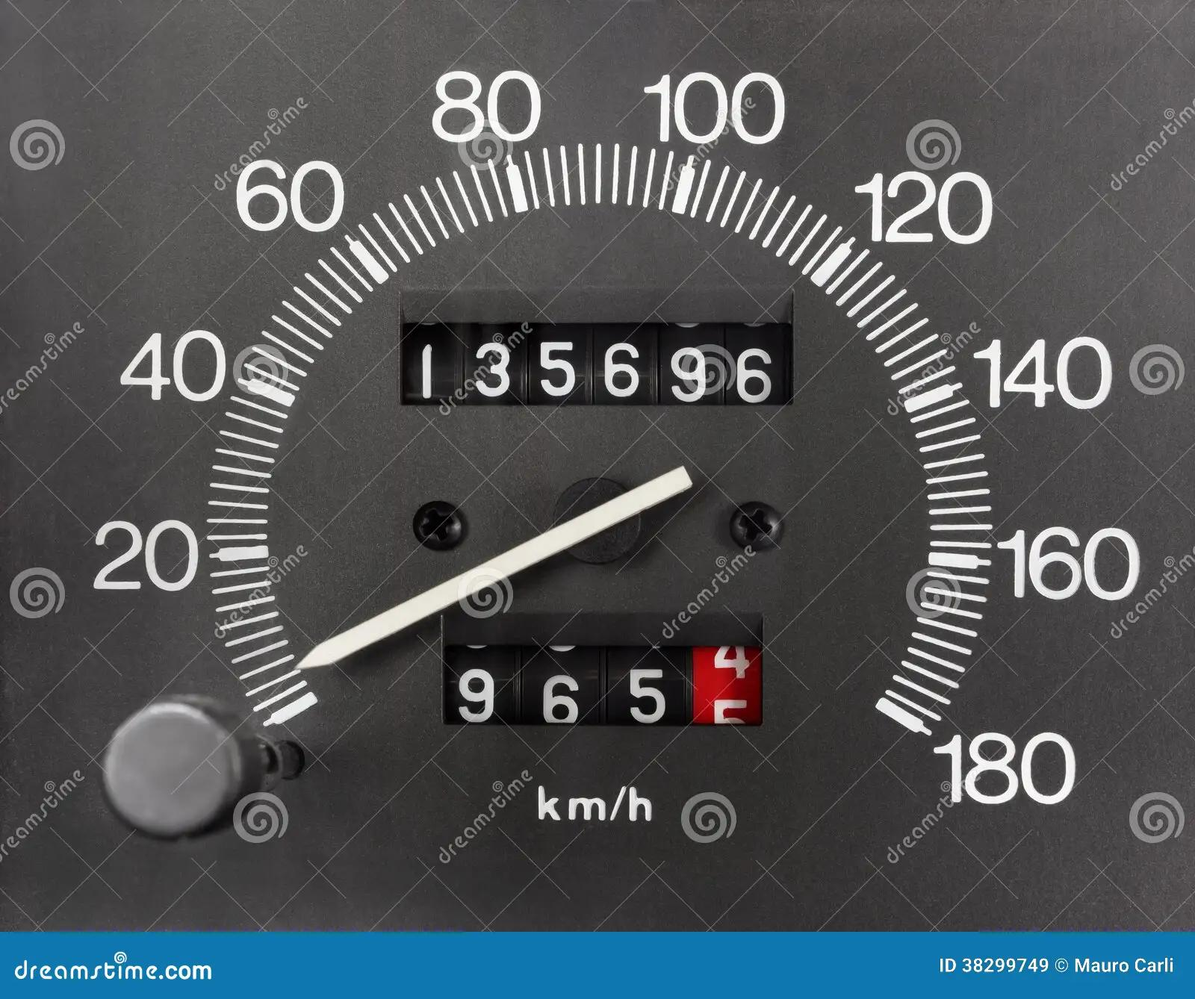odometer: (401, 289, 794, 403)
